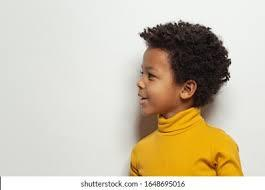Human: (121, 14, 244, 173)
